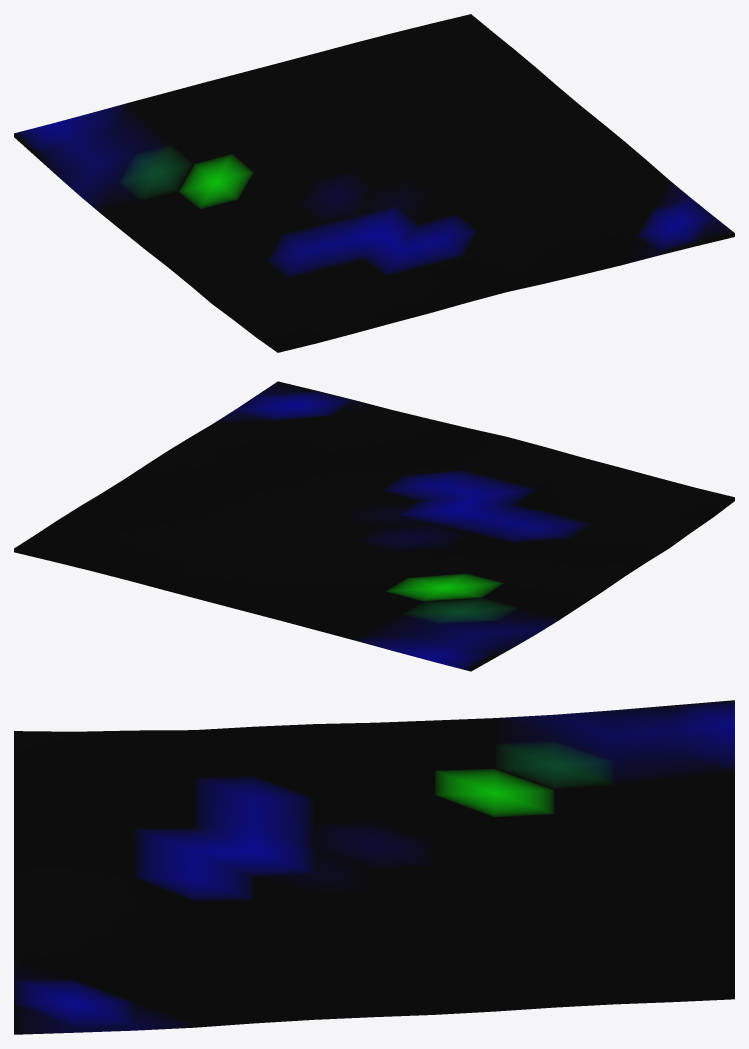
File: coast_16_4.glb
3 views of the same model, one above another, from view 1: azimuth 30°, elevation 25°; view 2: azimuth 150°, elevation 25°; view 3: azimuth 270°, elevation 25° (orthographic). The views are drawn at different scales.
Parts seen in each view (by area): view 1: terrain; view 2: terrain; view 3: terrain.
Part boxes in pixels (x1,y1,x2,y2): terrain: [14, 14, 734, 352]; terrain: [14, 381, 734, 671]; terrain: [14, 700, 734, 1034].
Size of the model in its own units: 192 by 13.98 by 192.
